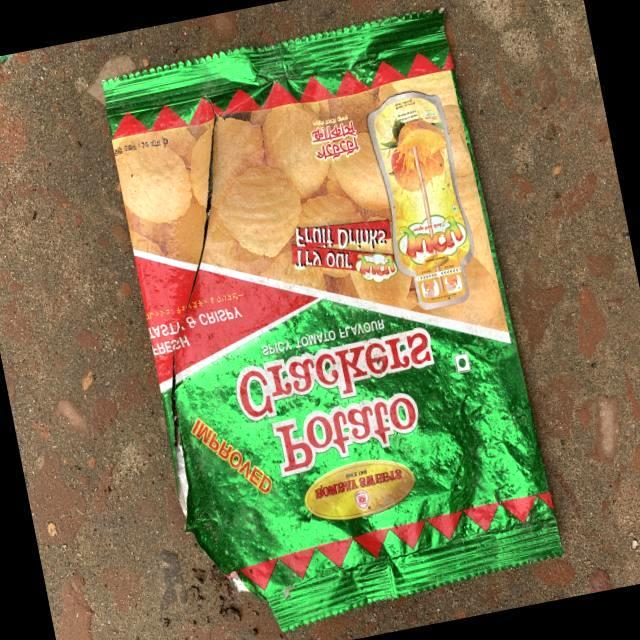packet: (136, 76, 552, 559)
